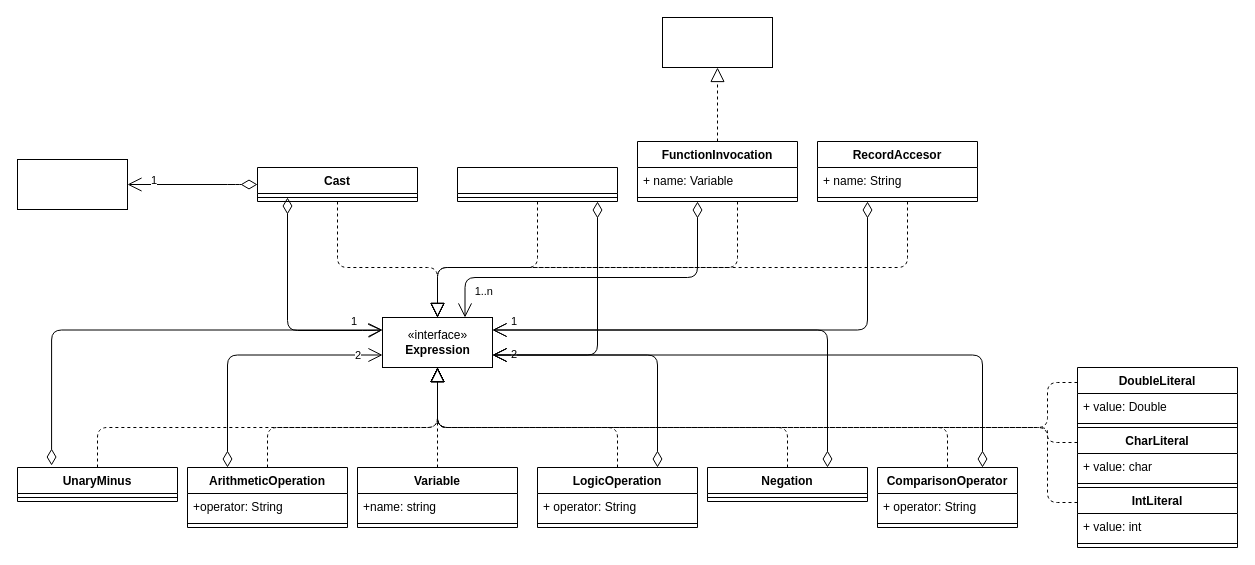
The diagram is 1255 pixels wide and 565 high, and some of its shapes have lost their labels. Each missing label, with the centre of its shape:
Indexing: point 537,184
«interface» Statement: point 717,42
«interface» Type: point 72,184
